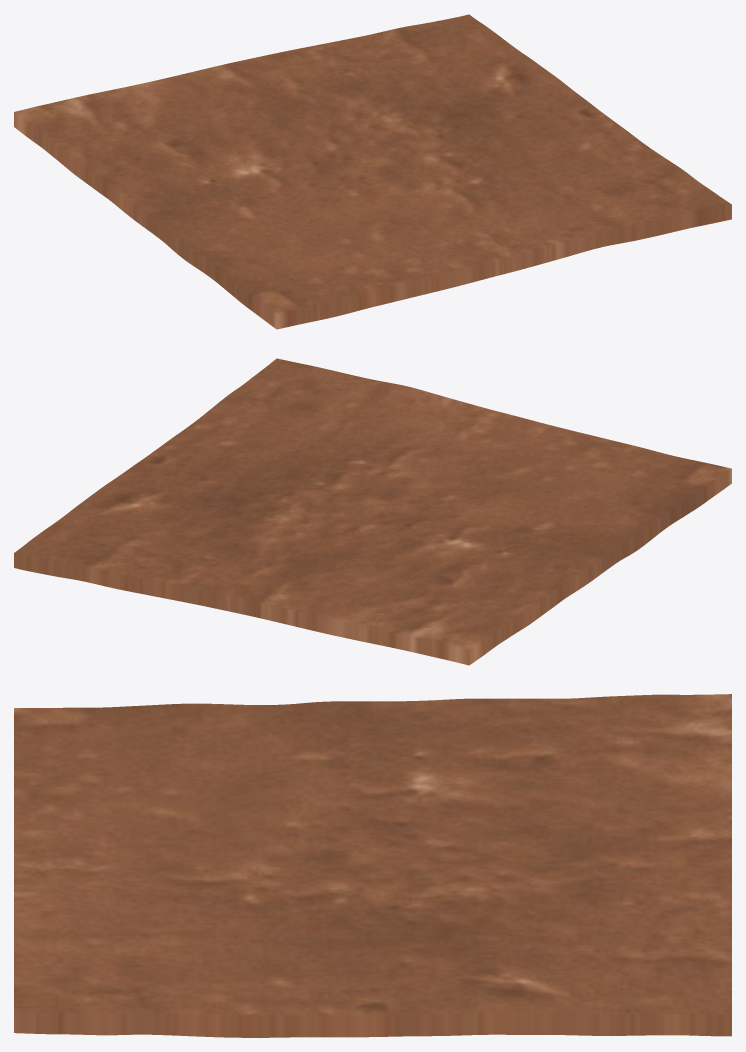
The picture shows the model from 3 angles, top to bottom: view 1: azimuth 30°, elevation 25°; view 2: azimuth 150°, elevation 25°; view 3: azimuth 270°, elevation 25°; orthographic projection. The views are drawn at different scales.
Visible parts, largest first — view 1: L8_136_113; view 2: L8_136_113; view 3: L8_136_113.
Part boxes in pixels (box(x1,y1,x2,y2)): L8_136_113: box(14, 14, 731, 329); L8_136_113: box(14, 358, 731, 665); L8_136_113: box(14, 694, 731, 1037).
Bounding box in the file's own units: 56.27 × 3.51 × 56.27.
Materials: 1 (1 with a texture image).
